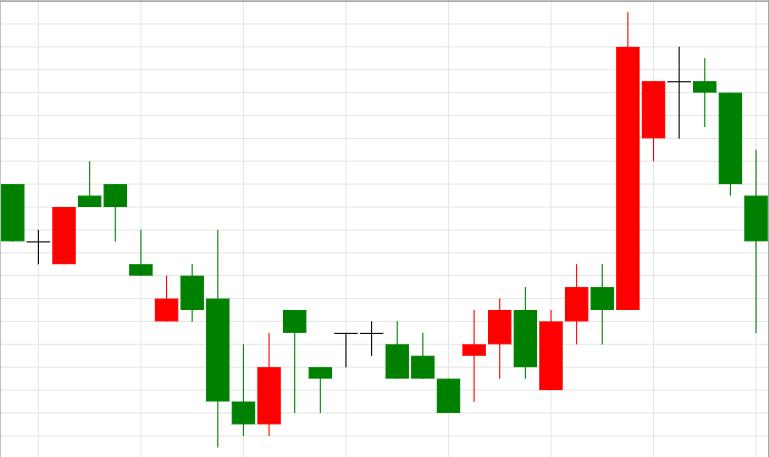bullish_engulfing_rise: (78, 162, 281, 448)
